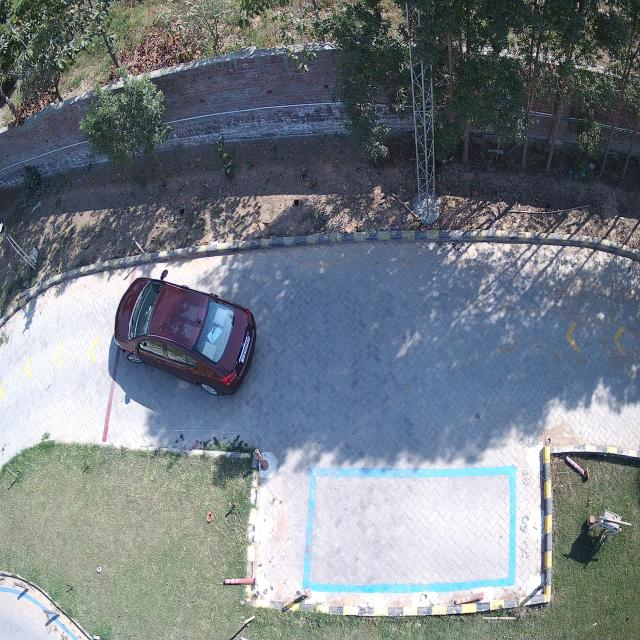car: (114, 270, 256, 395)
